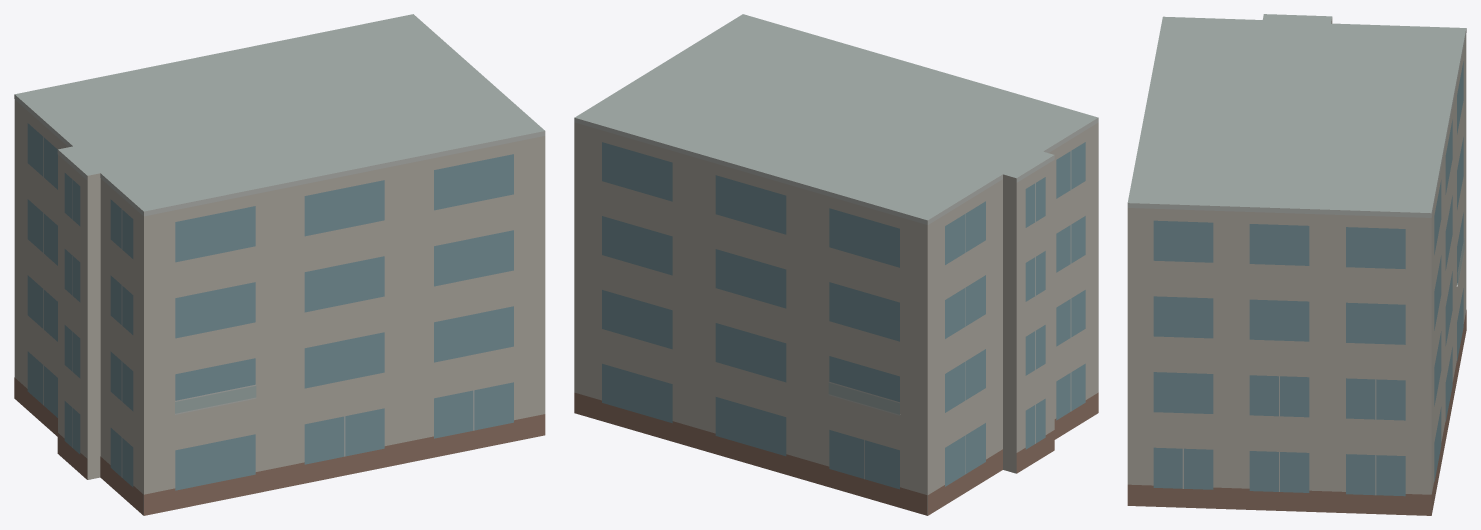
Rendered from survey-upis-32938801.glb.
The picture shows the model from 3 angles, left to right: view 1: azimuth 30°, elevation 25°; view 2: azimuth 150°, elevation 25°; view 3: azimuth 270°, elevation 25°; orthographic projection. The views are drawn at different scales.
Parts seen in each view (by area): view 1: survey-upis-32938801.tmp; view 2: survey-upis-32938801.tmp; view 3: survey-upis-32938801.tmp.
Part boxes in pixels (left/top/right/bottom): survey-upis-32938801.tmp: left=14, top=14, right=545, bottom=515; survey-upis-32938801.tmp: left=574, top=14, right=1098, bottom=515; survey-upis-32938801.tmp: left=1127, top=14, right=1466, bottom=515.
Bounding box in the file's own units: 21.45 × 15.2 × 15.43.
